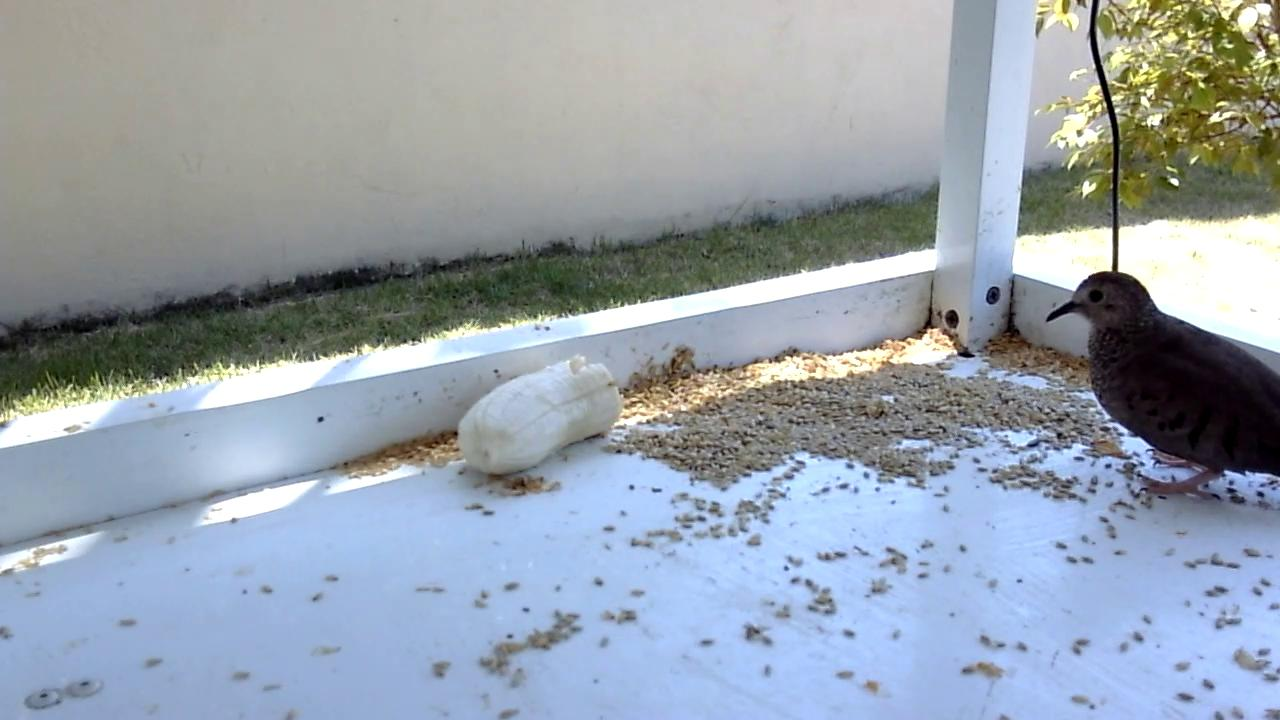rolinha: (1044, 268, 1280, 504)
